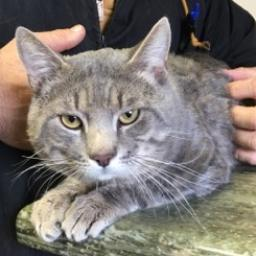cat: (14, 21, 242, 244)
